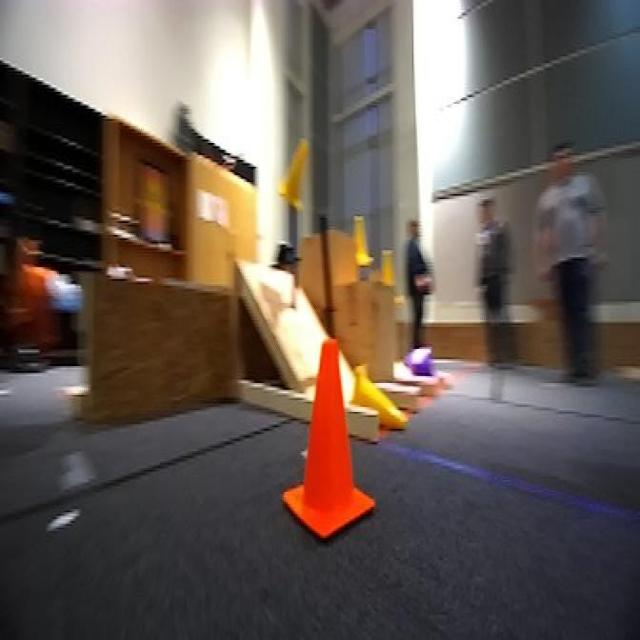frc_cone: (352, 359, 408, 432), (279, 135, 318, 211), (346, 213, 369, 272), (377, 245, 402, 296)
frc_cube: (403, 344, 437, 376)
